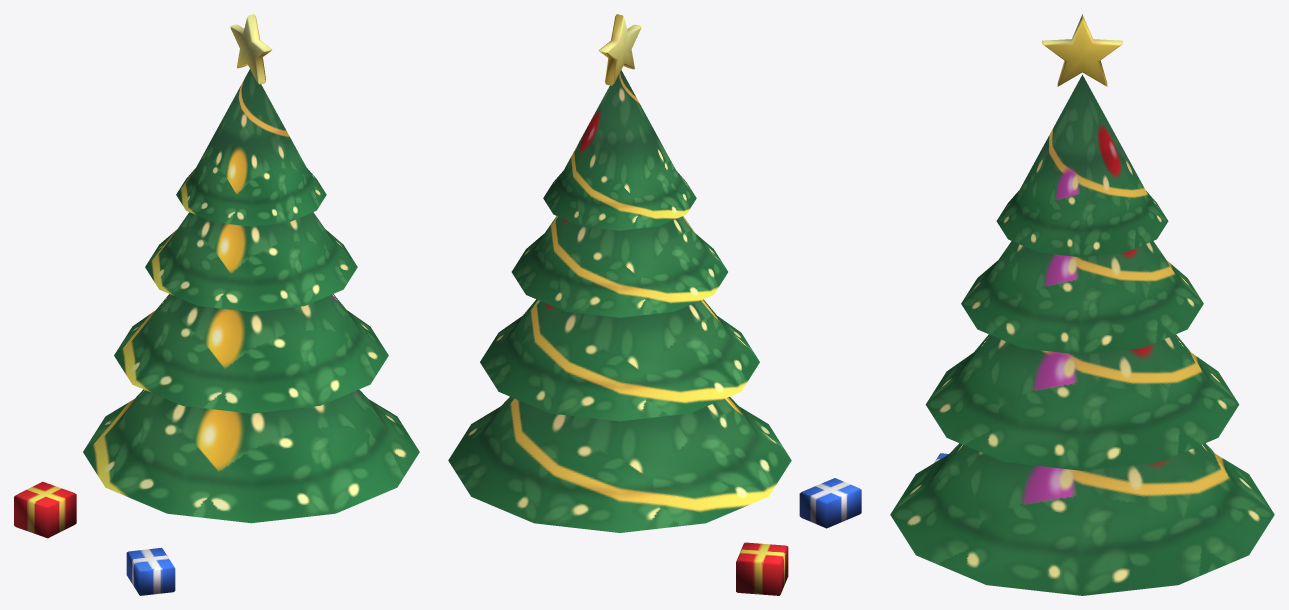
Rendered from christmas_tree.obj.
3 renders of one model, left to right at view 1: azimuth 30°, elevation 25°; view 2: azimuth 150°, elevation 25°; view 3: azimuth 270°, elevation 25°, orthographic. The views are drawn at different scales.
Parts seen in each view (by area): view 1: ChristmasTree; view 2: ChristmasTree; view 3: ChristmasTree.
Boxes of the visible parts, left/top/right/bottom form: ChristmasTree: left=14, top=14, right=419, bottom=595; ChristmasTree: left=448, top=14, right=861, bottom=595; ChristmasTree: left=890, top=14, right=1274, bottom=595.
Bounding box in the file's own units: 4.47 × 6.14 × 3.8.
1 material, 1 textured.
